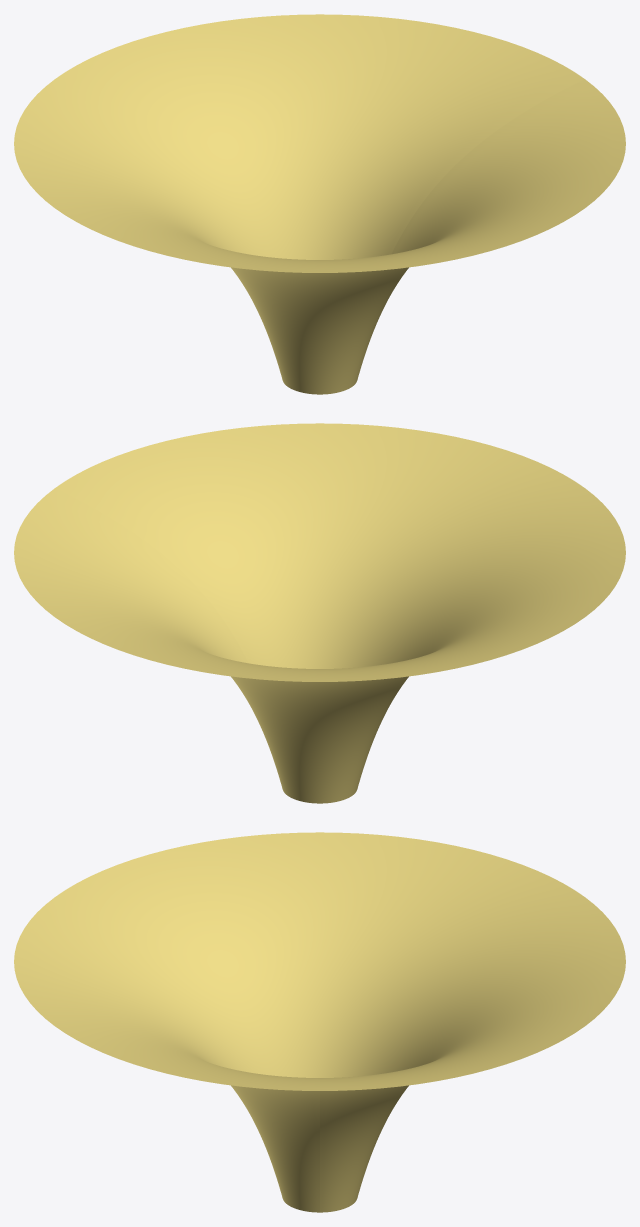
The model's file is ex_exponential_funnel.glb.
3 views of the same model, one above another, from view 1: azimuth 30°, elevation 25°; view 2: azimuth 150°, elevation 25°; view 3: azimuth 270°, elevation 25° (orthographic).
Visible parts, largest first — view 1: Funnel; view 2: Funnel; view 3: Funnel.
Boxes of the visible parts, left/top/right/bottom form: Funnel: left=14, top=14, right=625, bottom=394; Funnel: left=14, top=423, right=625, bottom=803; Funnel: left=14, top=832, right=625, bottom=1212.
Size of the model in its own units: 4.56 by 1.93 by 4.56.
